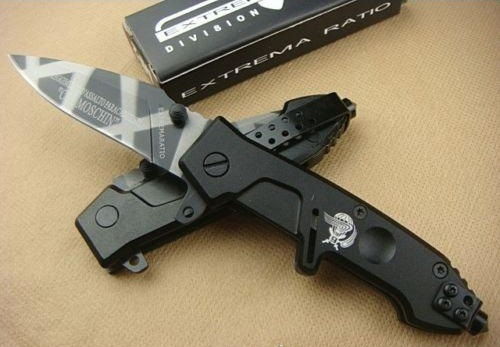knife: (1, 46, 216, 178)
